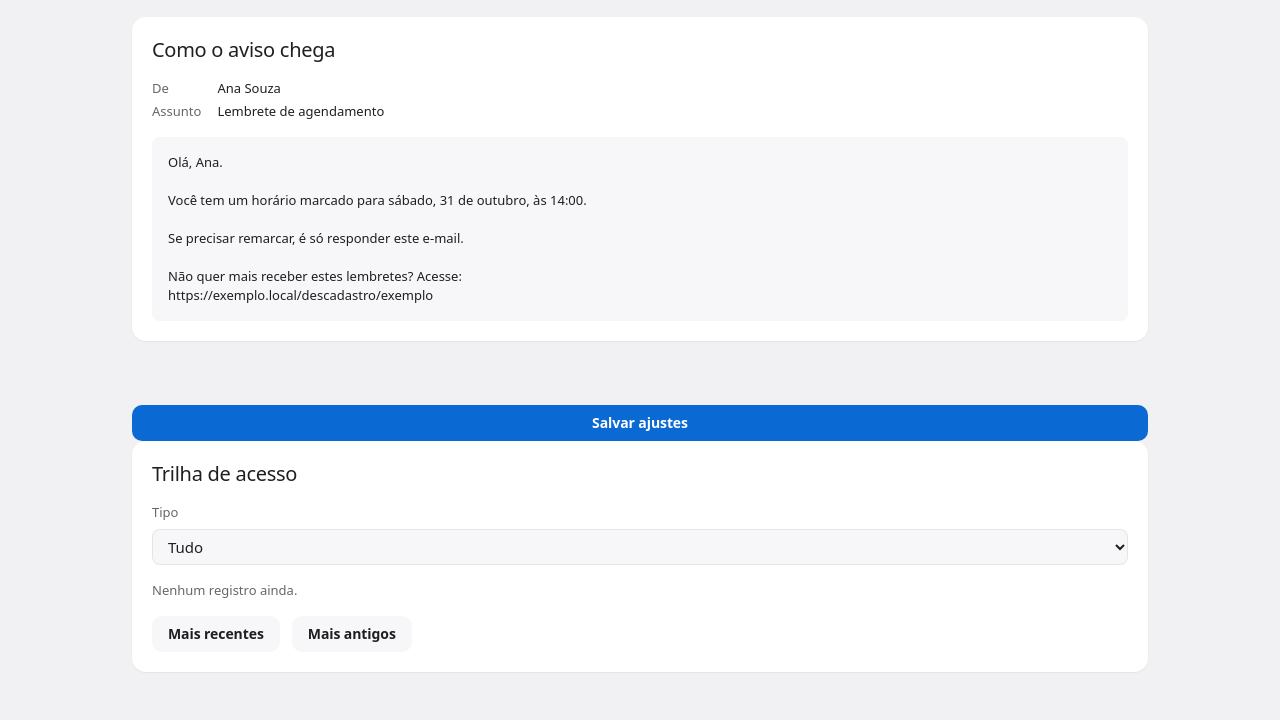
Test case: AjustesPage › um segundo salvamento que falha tira o Ajustes salvos
This screenshot has width=1280, height=720.
(page scrolled)
Click the button "Salvar ajustes" at coordinates (640, 423), box x1=132 y1=405 x2=1148 y2=441
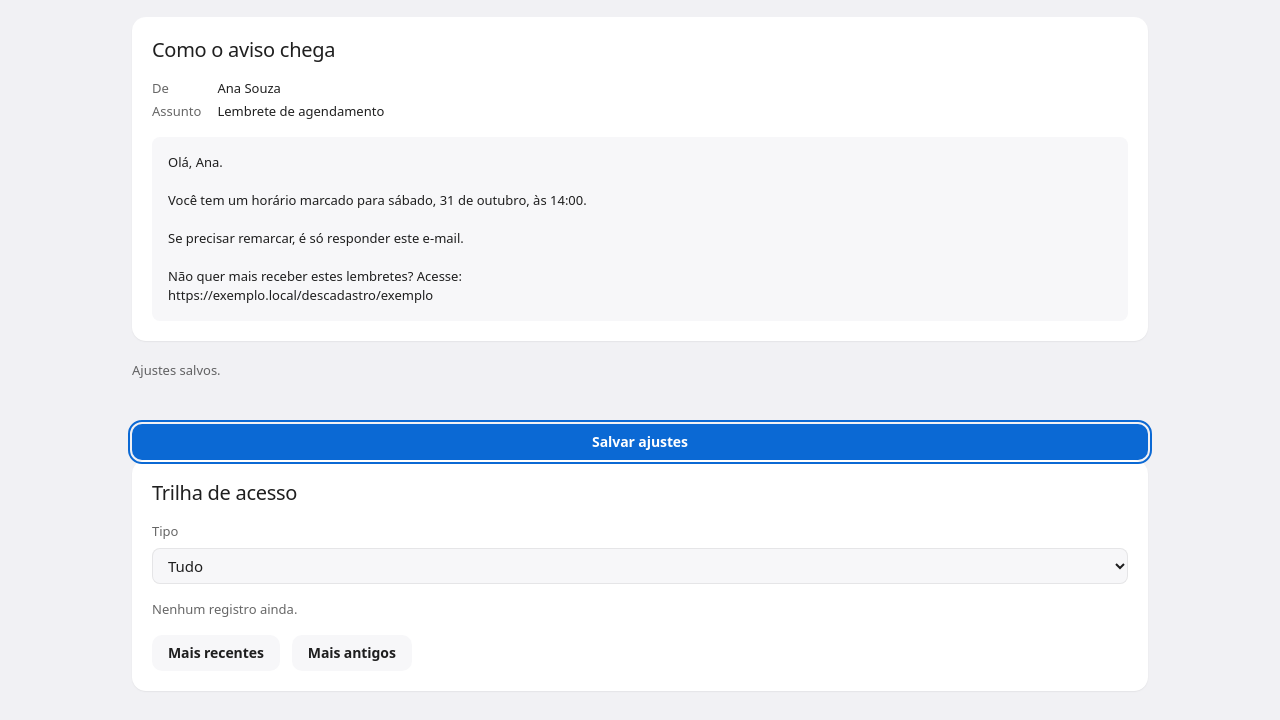
Expected: the text "Ajustes salvos." is shown, x1=132 y1=361 x2=221 y2=379
Click the button "Salvar ajustes" at coordinates (640, 442), box x1=132 y1=424 x2=1148 y2=460
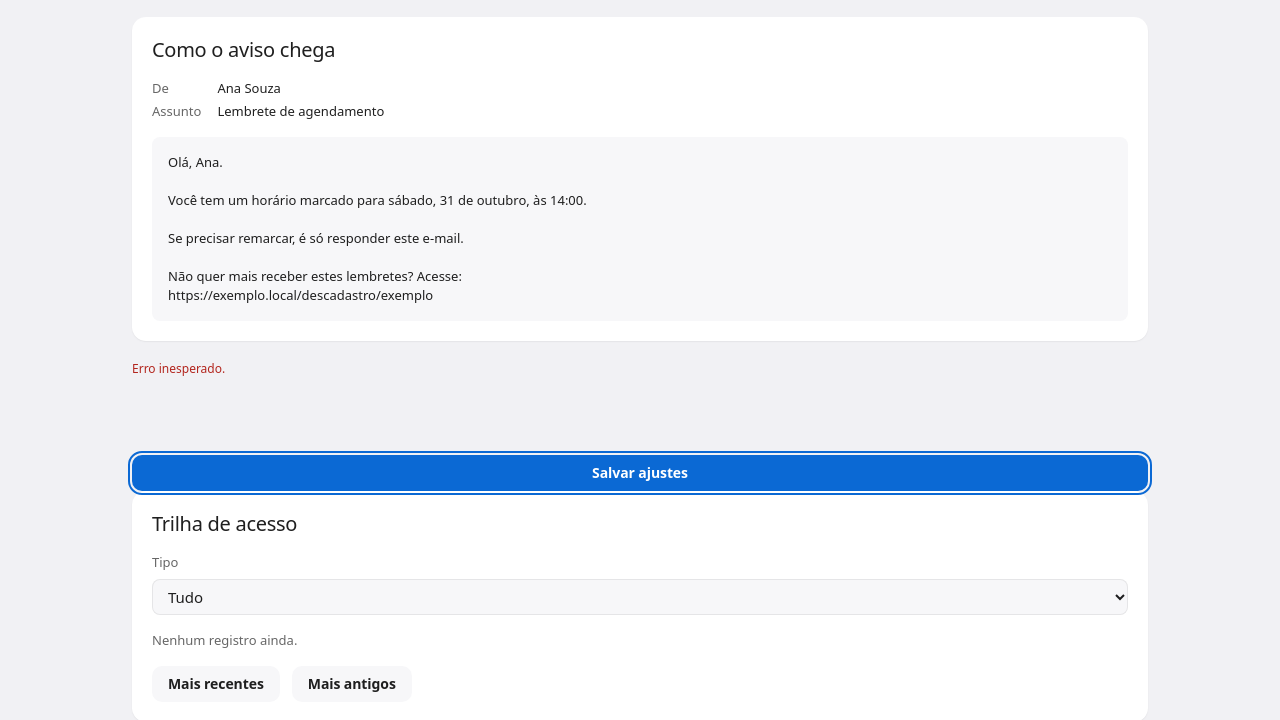
Expected: the message reads "Erro inesperado.", x1=132 y1=360 x2=225 y2=377
Expected: the text "Ajustes salvos." is gone
